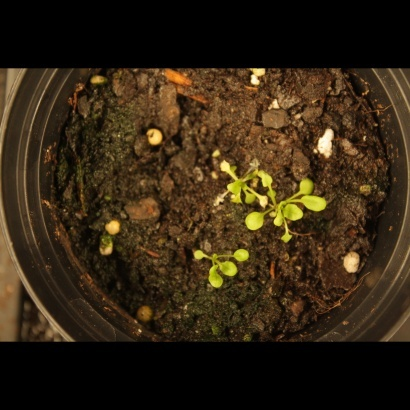leaf: (255, 164, 284, 201), (301, 192, 330, 219), (201, 262, 228, 290), (243, 208, 267, 235), (232, 243, 257, 266), (213, 155, 236, 178), (216, 179, 239, 202), (235, 188, 258, 211), (248, 188, 271, 211), (185, 242, 208, 265), (216, 258, 239, 281), (266, 209, 289, 232), (284, 203, 307, 226), (297, 175, 320, 198)
